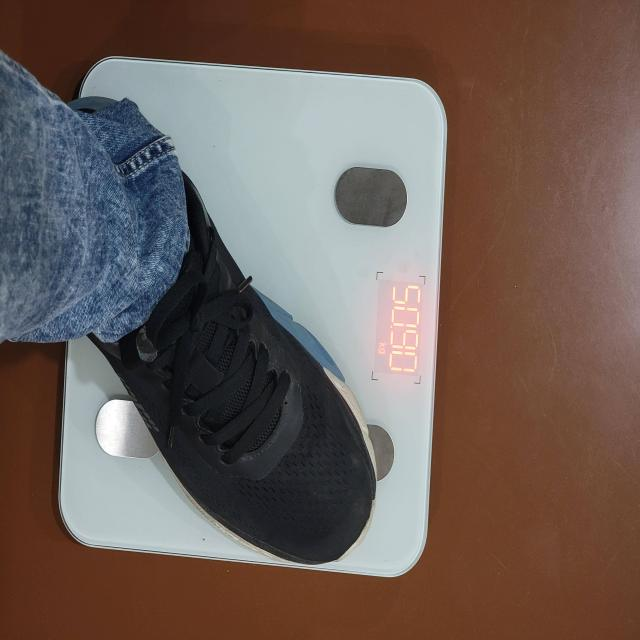ws: (372, 266, 434, 389)
